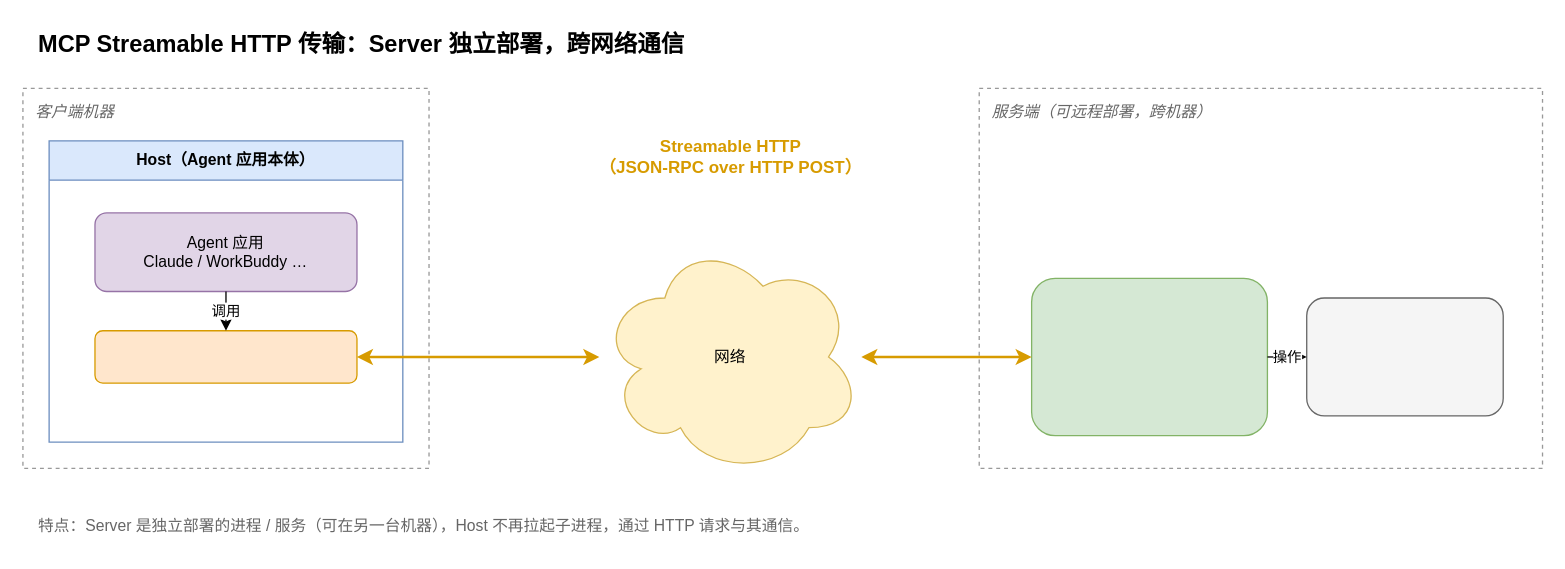
Image size: 1565x569. Some labels were removed from this diagram. Here are the shapes that lost their labels. From the top down, the centre of each, then its label:
At point 225,356: "MCP Client（连接）".
At point 1148,356: "MCP Server （独立进程 / 远程服务） 提供能力 · 管理资源".
At point 1404,356: "Resource （文件 / 数据库 / API …）".
